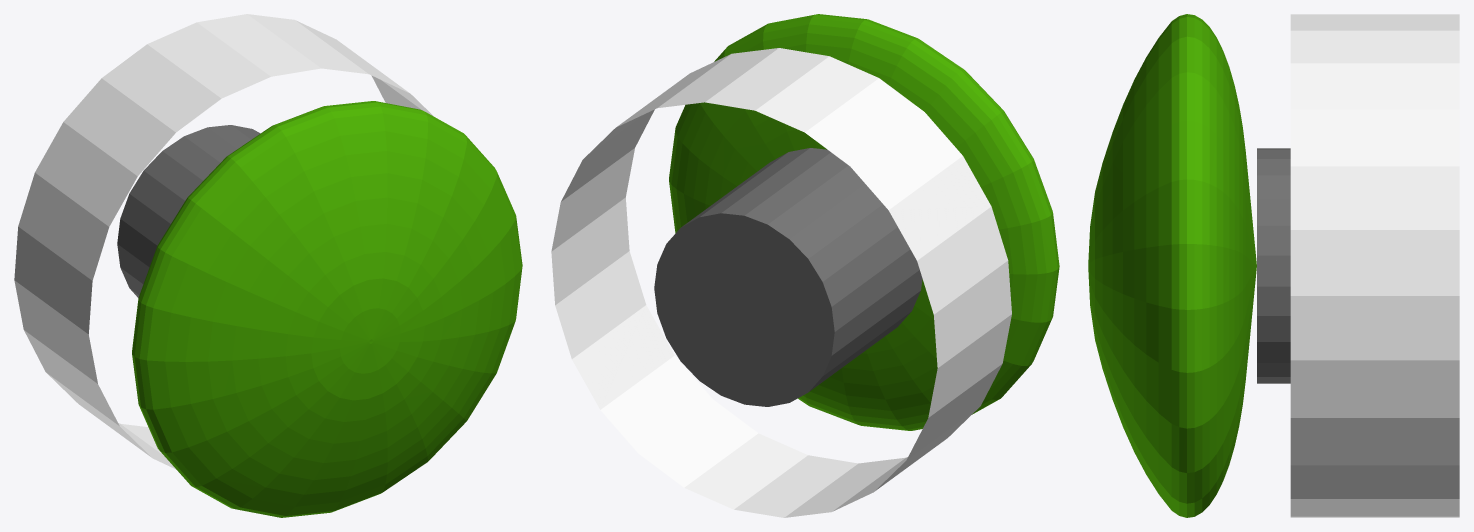
The model's file is HPE50cm.obj.
3 views of the same model, side by side, from view 1: azimuth 30°, elevation 25°; view 2: azimuth 150°, elevation 25°; view 3: azimuth 270°, elevation 25° (orthographic). The views are drawn at different scales.
Size of the model in its own units: 1.5 by 1.5 by 1.1.
